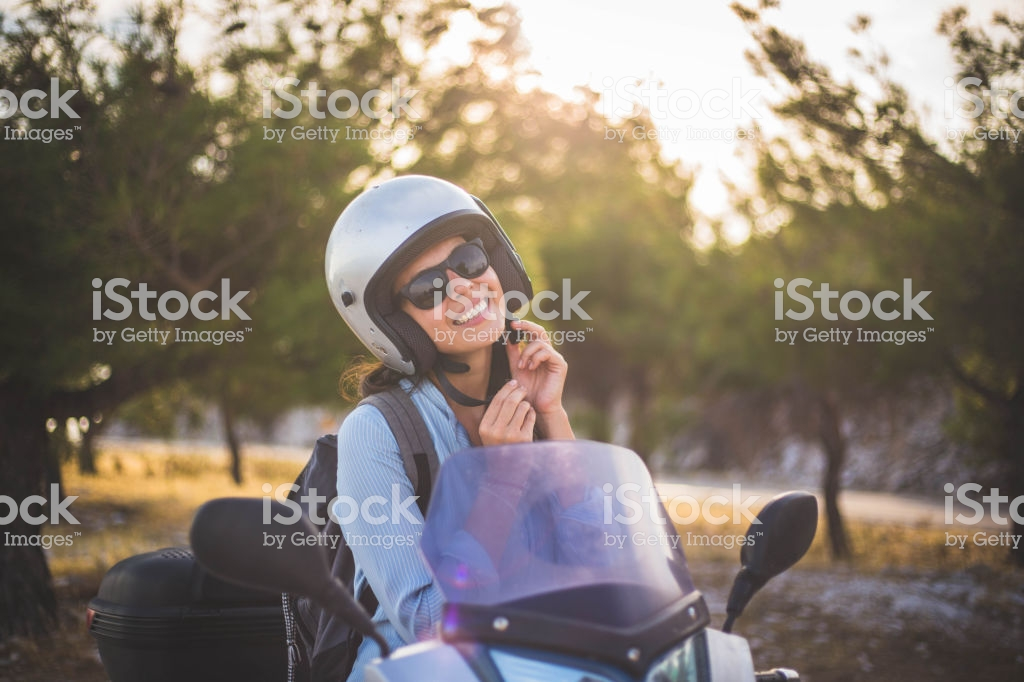helmet: (313, 169, 535, 344)
